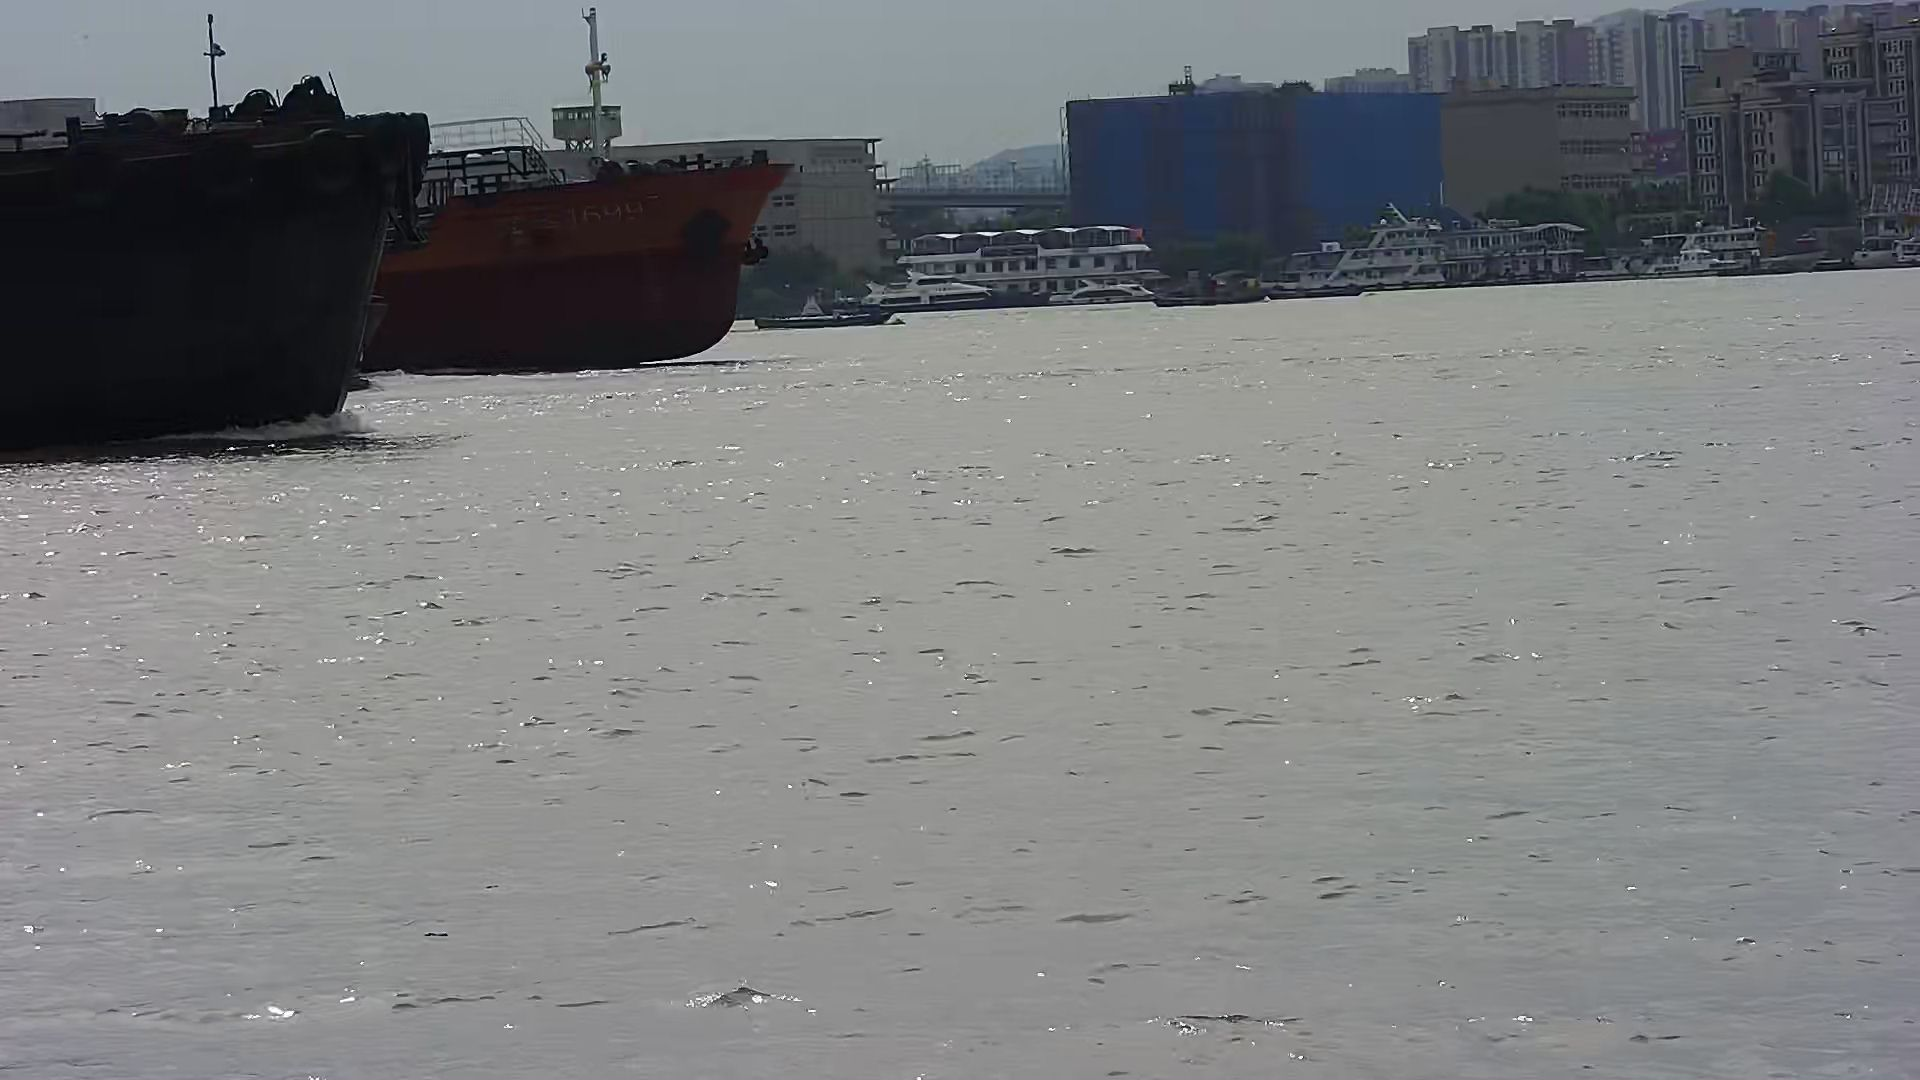boat: (757, 295, 889, 328), (1151, 278, 1265, 307)
ship: (1, 17, 429, 465), (369, 135, 791, 378), (1278, 216, 1457, 291), (861, 266, 1052, 313)
